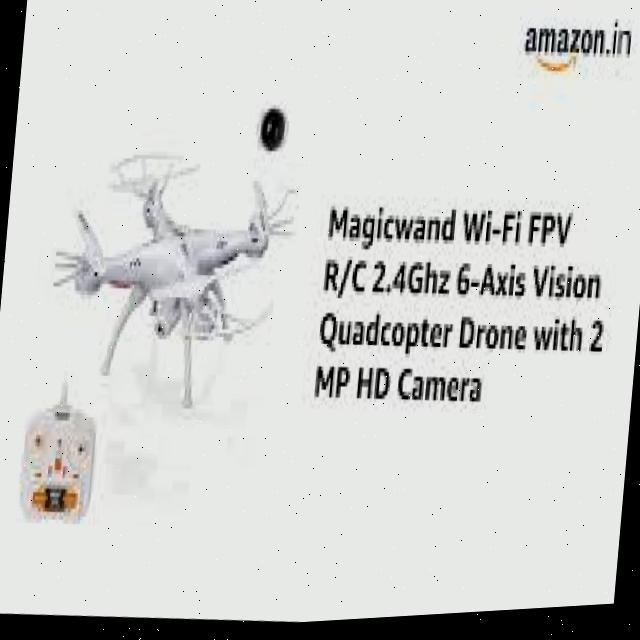drone: (34, 110, 304, 449)
